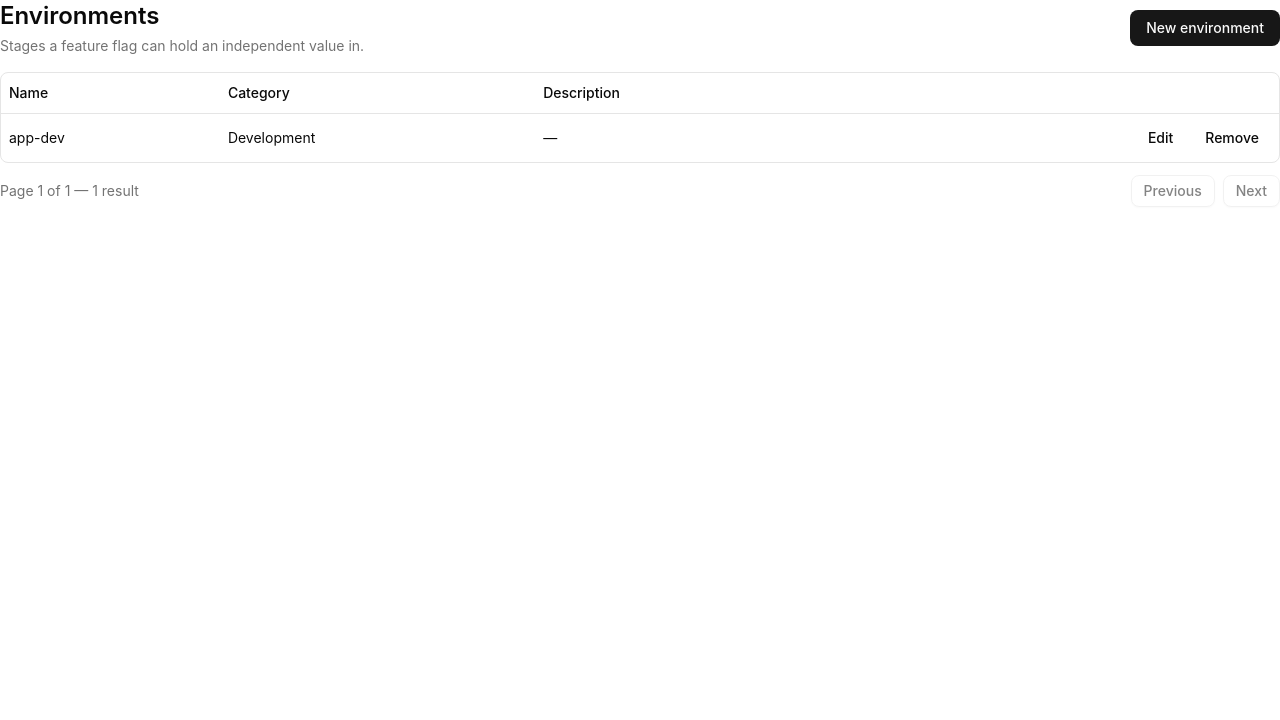
it: EnvironmentsPage › removes an environment after confirming, and shows a success toast
The image size is (1280, 720).
Expected: the text "app-dev" is shown, [1,113,220,162]
Step 1. Click the button "Remove" → coordinates (1232, 138), box [1193,122,1271,154]
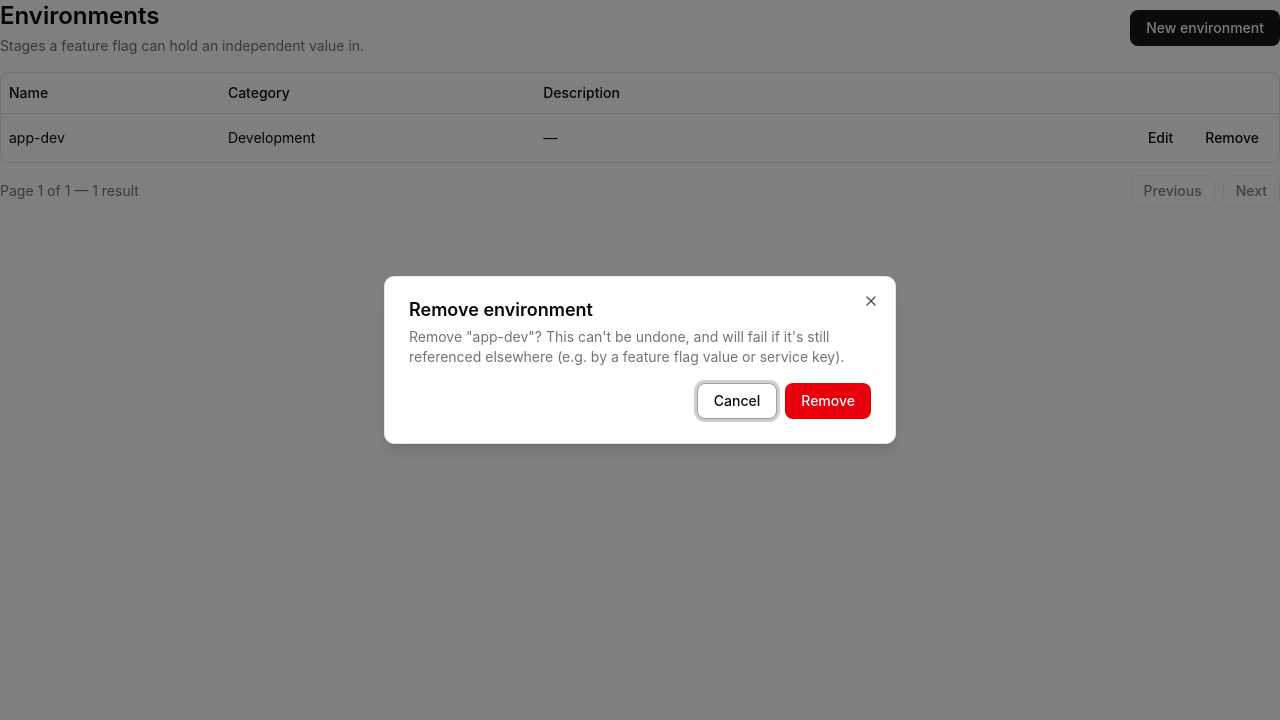
Result: the heading "Remove environment" is shown at [409,299,593,320]
Result: the text "Remove \"app-dev\"?" is shown at [409,328,844,365]
Step 2. Click the button "Remove" → coordinates (828, 401), box [785,383,871,419]
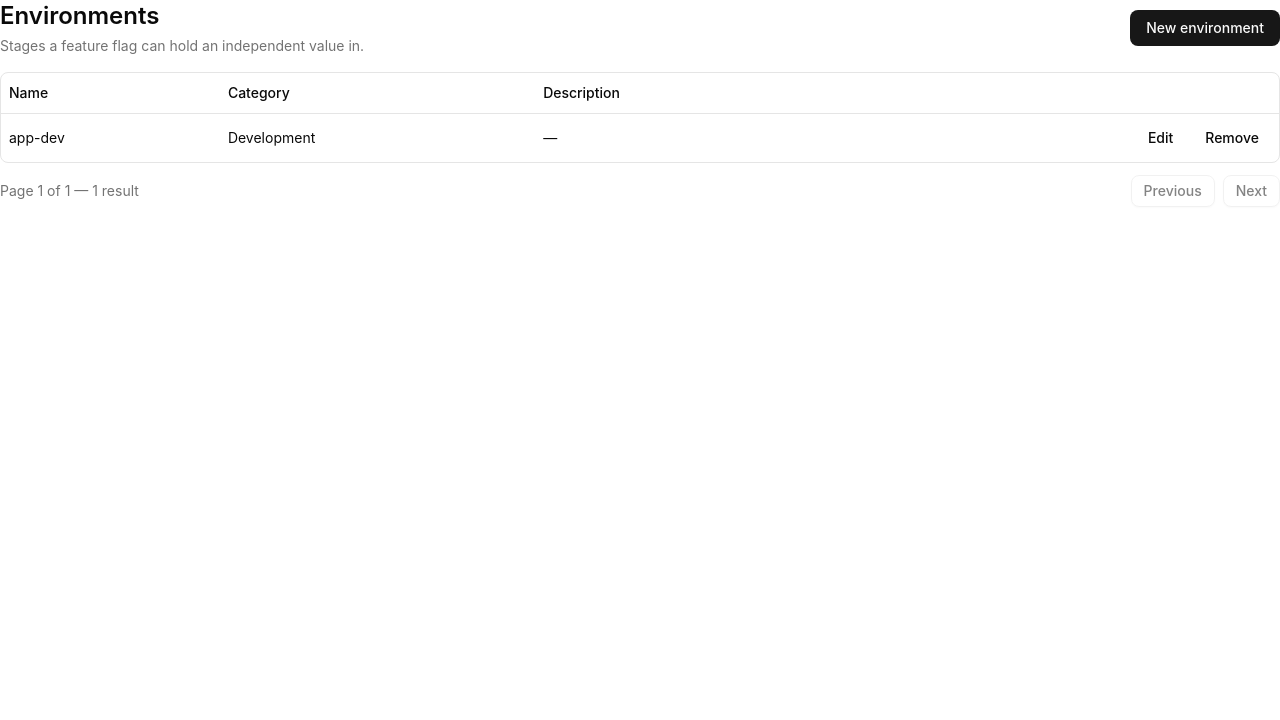
Result: the heading "Remove environment" is gone
